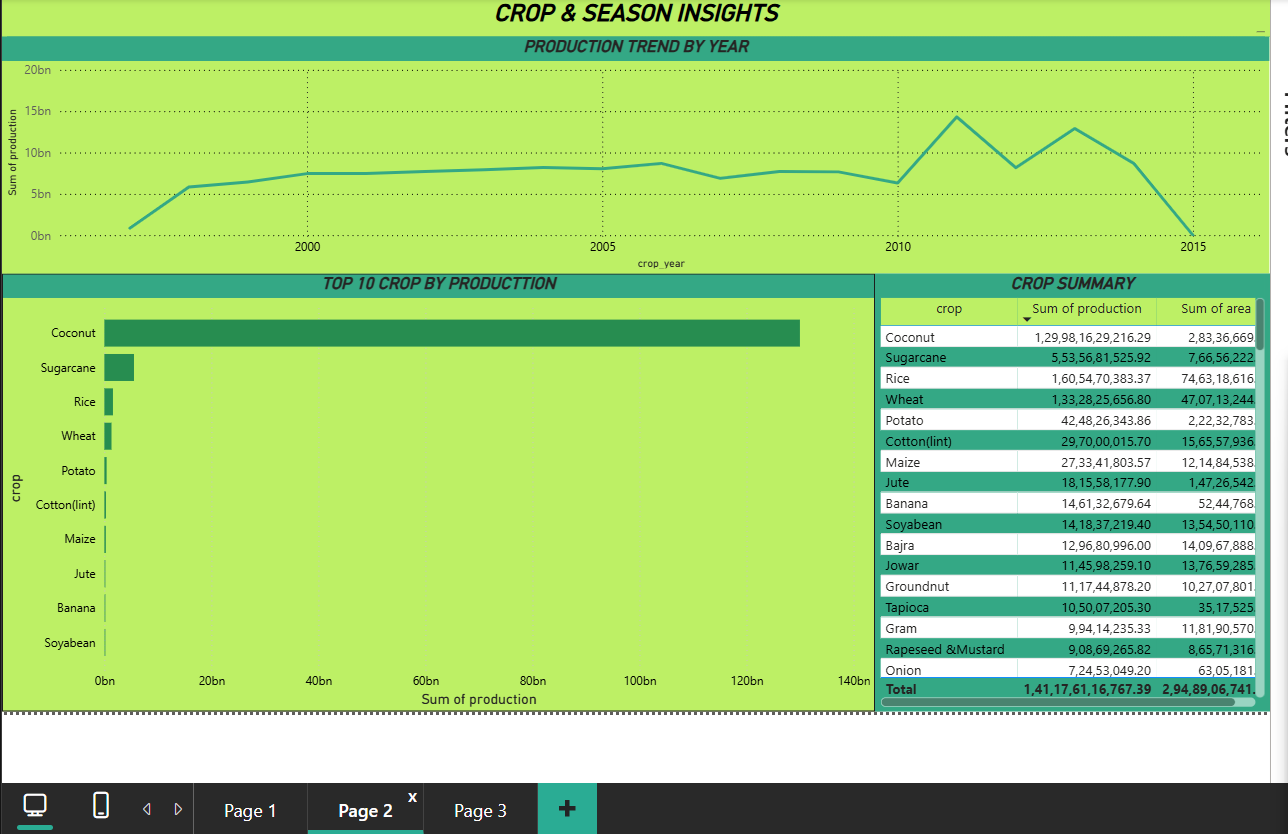

Layout of this report page (visuals, bound fields, positions):
{"tool":"powerbi","page":{"name":"Page 2","canvas":[1280,720],"ordinal":1},"visuals":[{"type":"textbox","title":"CROP & SEASON INSIGHTS","box":[0,0,1279.5,37.9],"z":0},{"type":"textbox","box":[0,616.3,508.8,103],"z":1000},{"type":"clusteredBarChart","title":"TOP 10 CROP BY PRODUCTTION","fields":{"Category":["public crop_production.crop"],"Y":["Sum(public crop_production.production)"]},"box":[0,277.1,881.3,442.1],"z":2000},{"type":"lineChart","title":"PRODUCTION TREND BY YEAR","fields":{"Category":["public crop_production.crop_year"],"Y":["Sum(public crop_production.production)"]},"box":[0,37.9,1279.5,239.2],"z":3000},{"type":"tableEx","title":"CROP SUMMARY","fields":{"Values":["public crop_production.crop","Sum(public crop_production.production)","Sum(public crop_production.area)"]},"box":[881.3,277.1,398.2,442.1],"z":4000}]}

Visuals, with their boxes in screenshot pixels (x1, y1, x2, y2):
"CROP & SEASON INSIGHTS" textbox: <region>0, 0, 1270, 34</region>
textbox: <region>0, 608, 505, 710</region>
"TOP 10 CROP BY PRODUCTTION" clusteredBarChart: <region>0, 272, 875, 710</region>
"PRODUCTION TREND BY YEAR" lineChart: <region>0, 34, 1270, 272</region>
"CROP SUMMARY" tableEx: <region>875, 272, 1270, 710</region>
